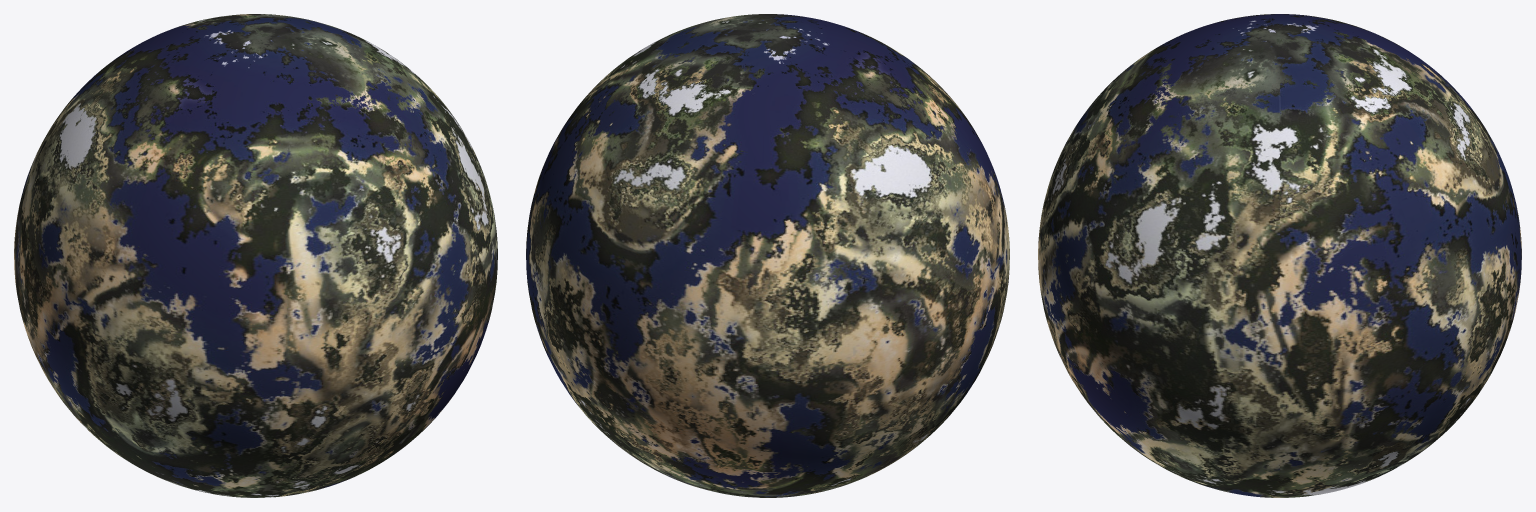
Rendered from planet.dae.
3 views of the same model, side by side, from view 1: azimuth 30°, elevation 25°; view 2: azimuth 150°, elevation 25°; view 3: azimuth 270°, elevation 25° (orthographic).
Visible parts, largest first — view 1: Sphere04; view 2: Sphere04; view 3: Sphere04.
Boxes of the visible parts, x1,y1,x2,y2 form: Sphere04: (14, 14, 497, 497); Sphere04: (526, 14, 1009, 497); Sphere04: (1038, 14, 1521, 497).
Size of the model in its own units: 19.14 by 19.14 by 19.14.
Materials: 1 (1 with a texture image).
